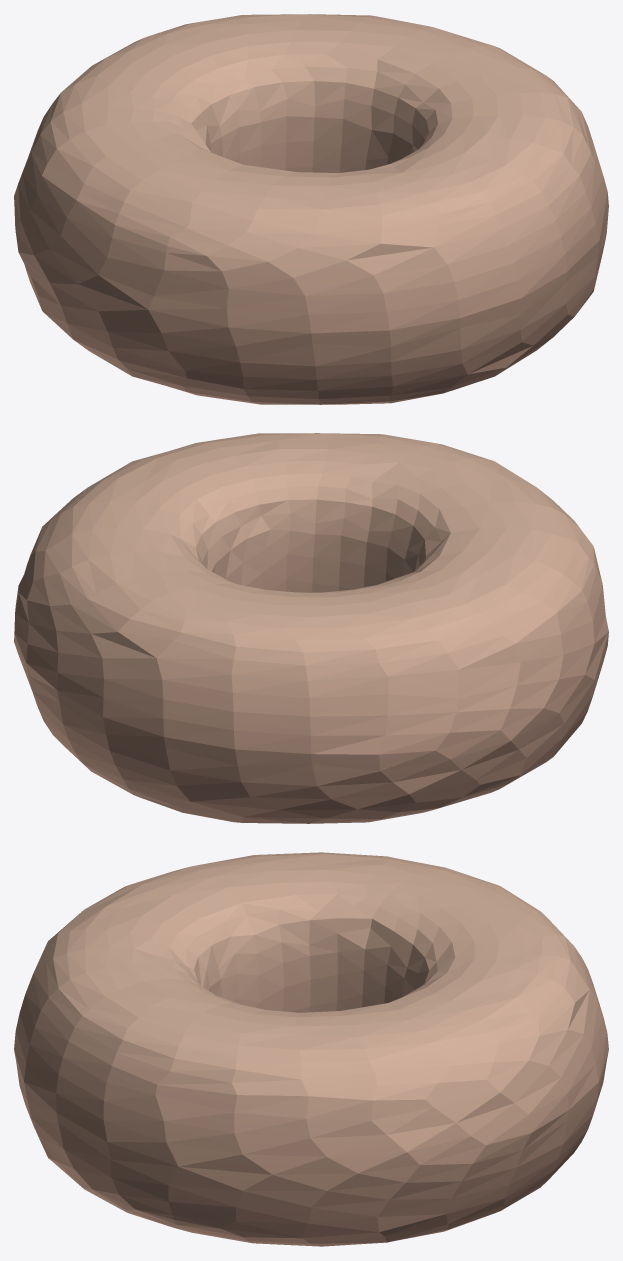
The model's file is donut.glb.
3 views of the same model, one above another, from view 1: azimuth 30°, elevation 25°; view 2: azimuth 150°, elevation 25°; view 3: azimuth 270°, elevation 25° (orthographic).
Size of the model in its own units: 0.5534 by 0.2121 by 0.558.
